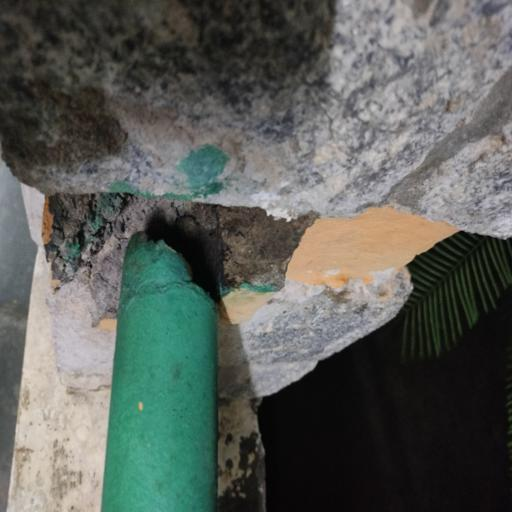spalling: (11, 117, 348, 309)
